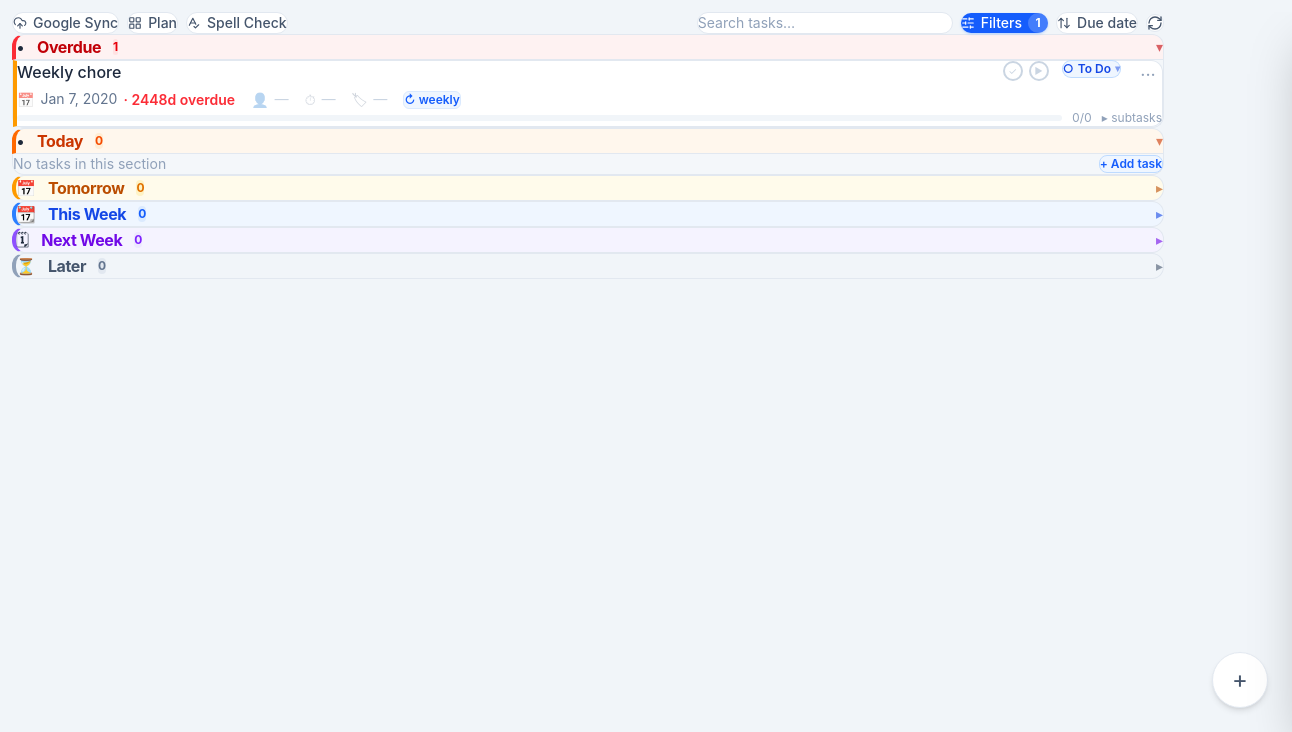
TaskList — UI states › shows "All status filters are off" when filterStatus is emptied
Expected: the text "Weekly chore" is shown, [17,61,121,83]
Click the button "Filters 1" at (1004, 23), box [961,13,1048,33]
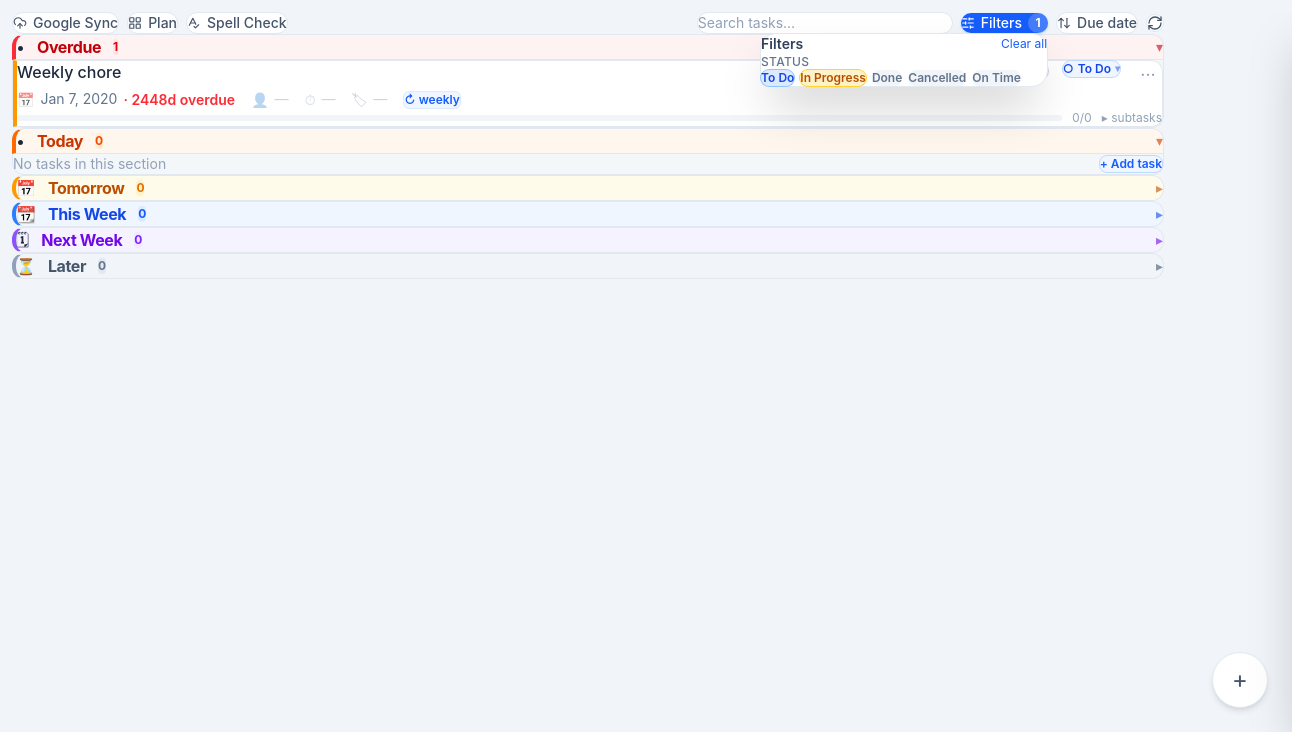
Click the button "To Do" at (778, 78), box [761,70,794,86]
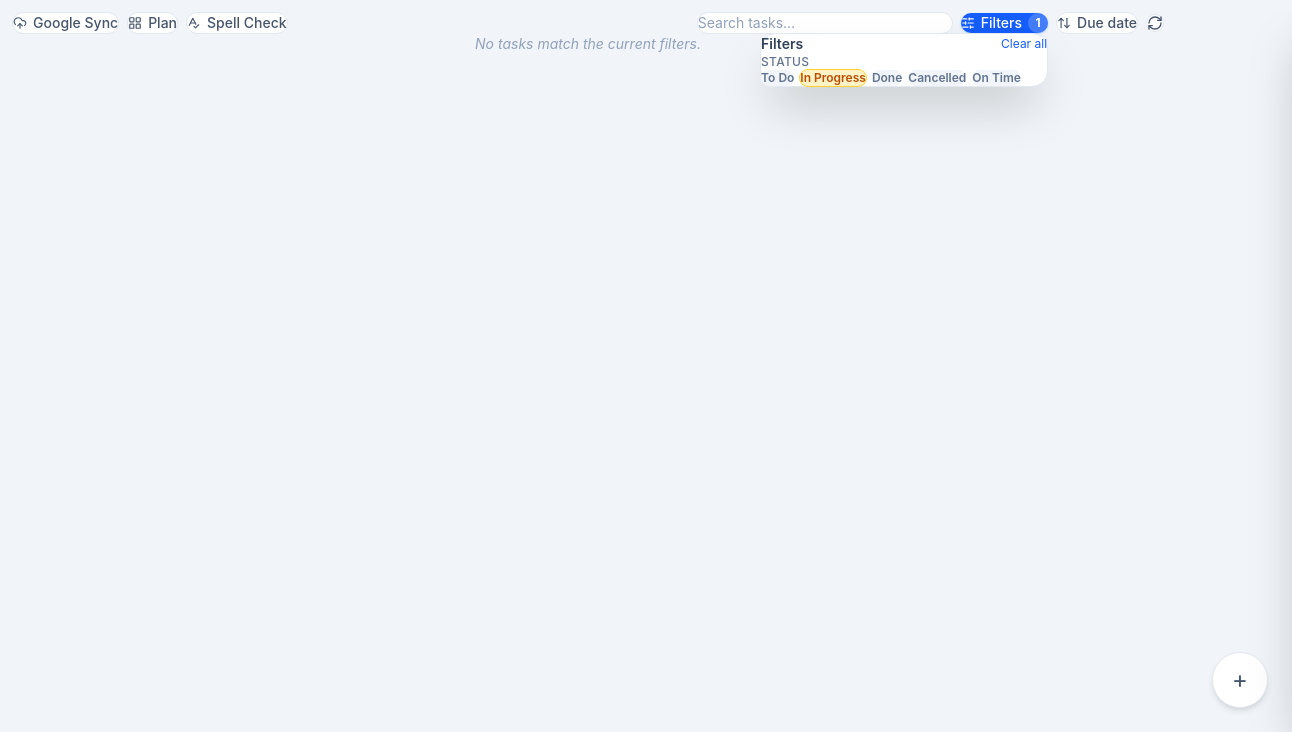
Click the button "In Progress" at (833, 78), box [800,70,866,86]
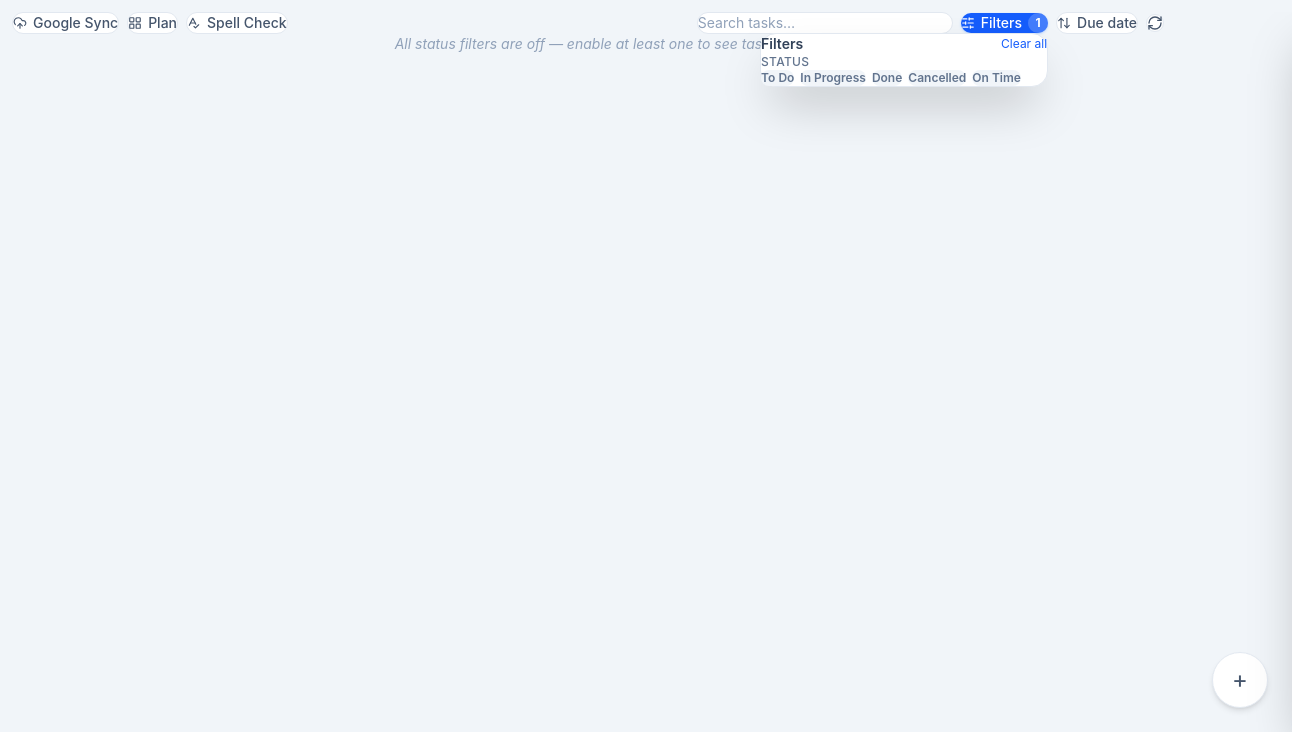
Result: the text "All status filters are off" is shown at [395,35,781,52]
